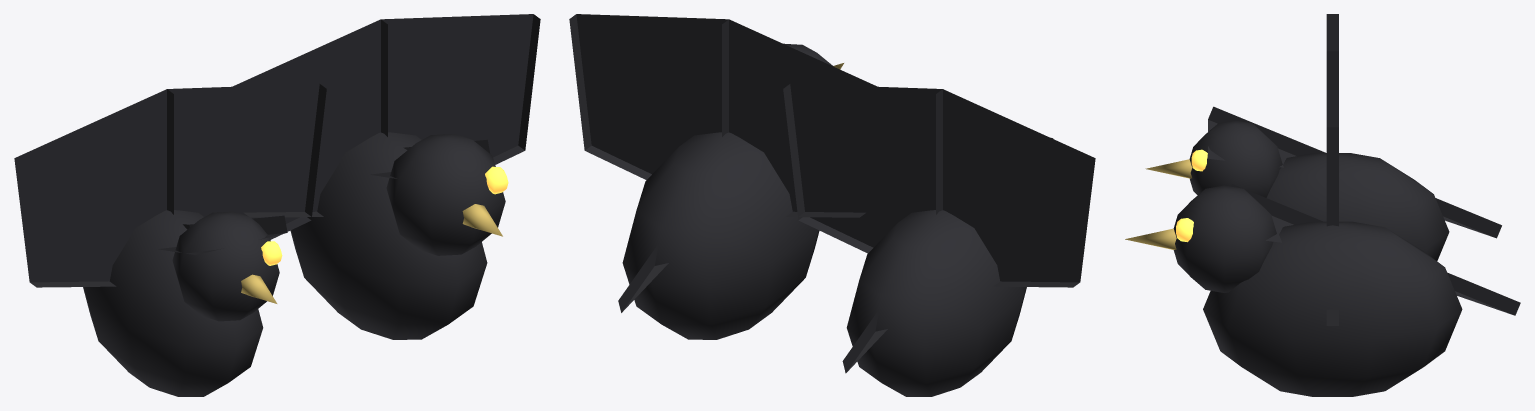
File: raven_pair.glb
The picture shows the model from 3 angles, left to right: view 1: azimuth 30°, elevation 25°; view 2: azimuth 150°, elevation 25°; view 3: azimuth 270°, elevation 25°; orthographic projection. The views are drawn at different scales.
Parts seen in each view (by area): view 1: GD_raven_pair__m0, GD_raven_pair__m2, GD_raven_pair__m1; view 2: GD_raven_pair__m0; view 3: GD_raven_pair__m0, GD_raven_pair__m2, GD_raven_pair__m1.
Part boxes in pixels (<box>): GD_raven_pair__m0: <box>14,14,540,396</box>; GD_raven_pair__m2: <box>241,204,502,303</box>; GD_raven_pair__m1: <box>261,166,508,265</box>; GD_raven_pair__m0: <box>569,14,1095,396</box>; GD_raven_pair__m0: <box>1173,14,1520,396</box>; GD_raven_pair__m2: <box>1125,159,1192,249</box>; GD_raven_pair__m1: <box>1176,149,1207,242</box>.
Size of the model in its own units: 0.34 by 0.194 by 0.2568.
